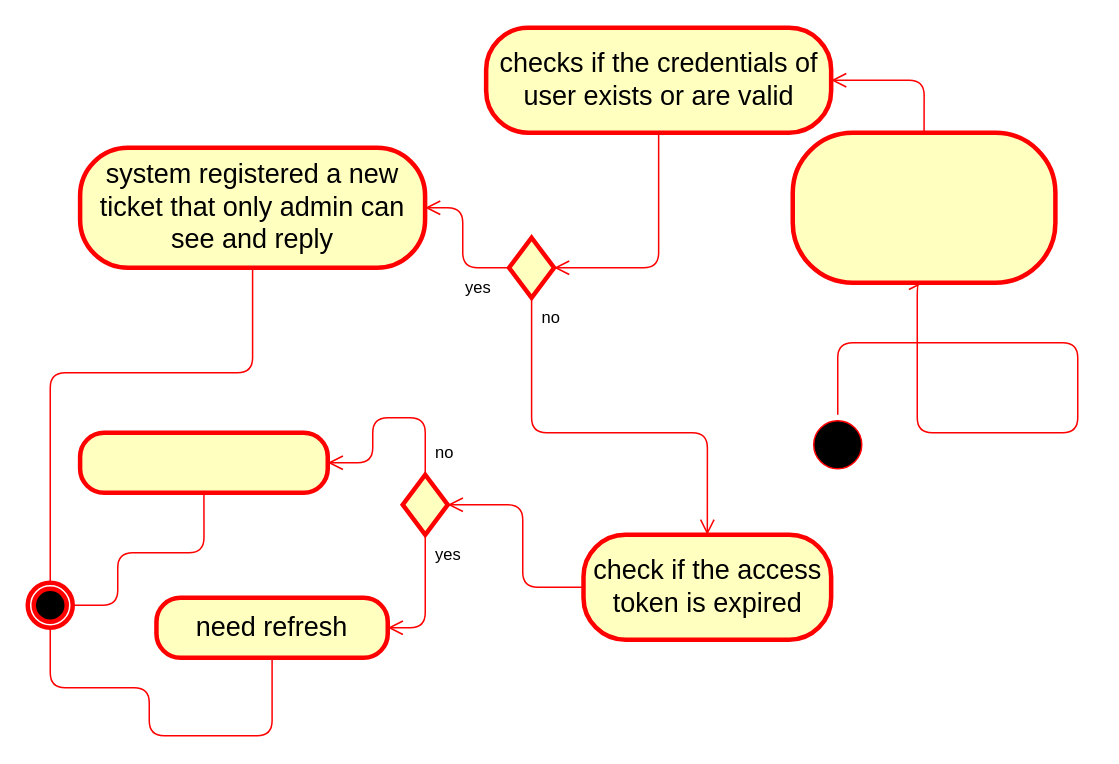
This 1119x764 diagram has some shape labels left out. Here are the shapes that lost their labels. From the top down, the box of each, then its label:
(790, 130, 1057, 284): normal user adds a new ticket title and text and sends it to admin
(77, 430, 329, 494): error message
